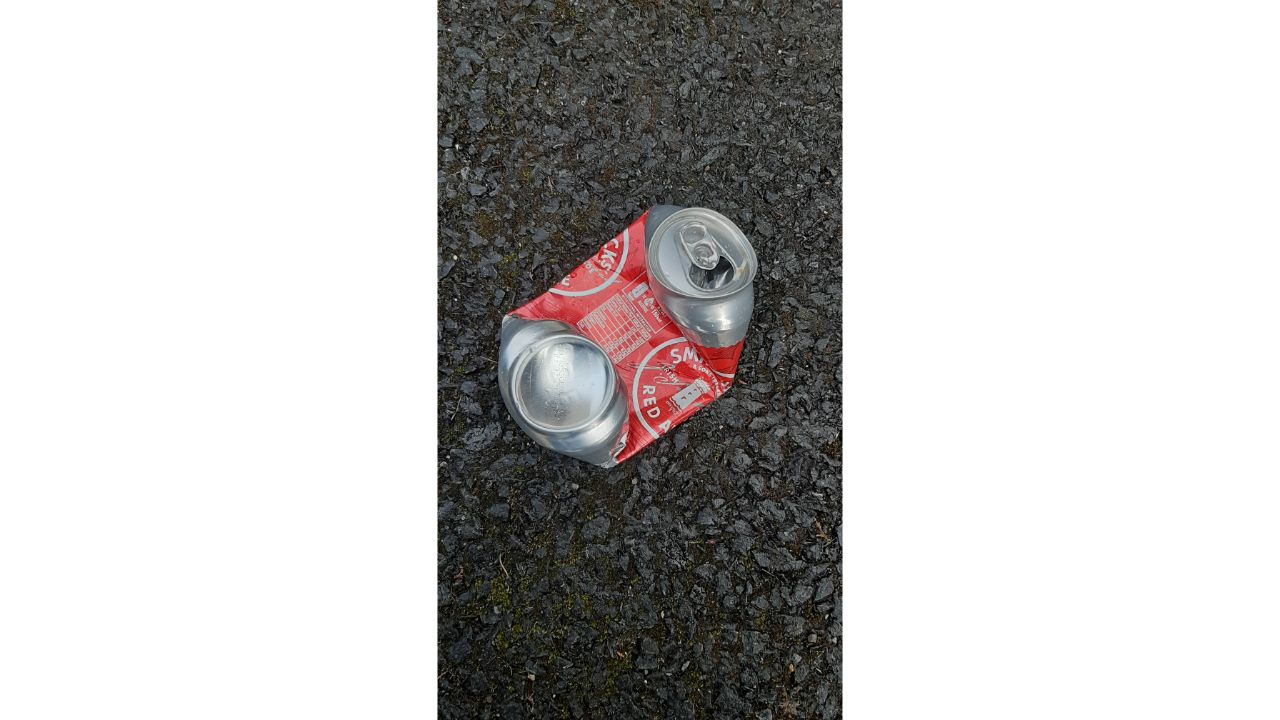Can: (499, 205, 758, 466)
